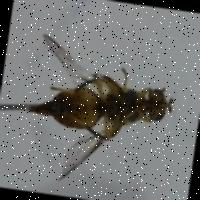Oriental-fruit-fly: (14, 21, 193, 200)
